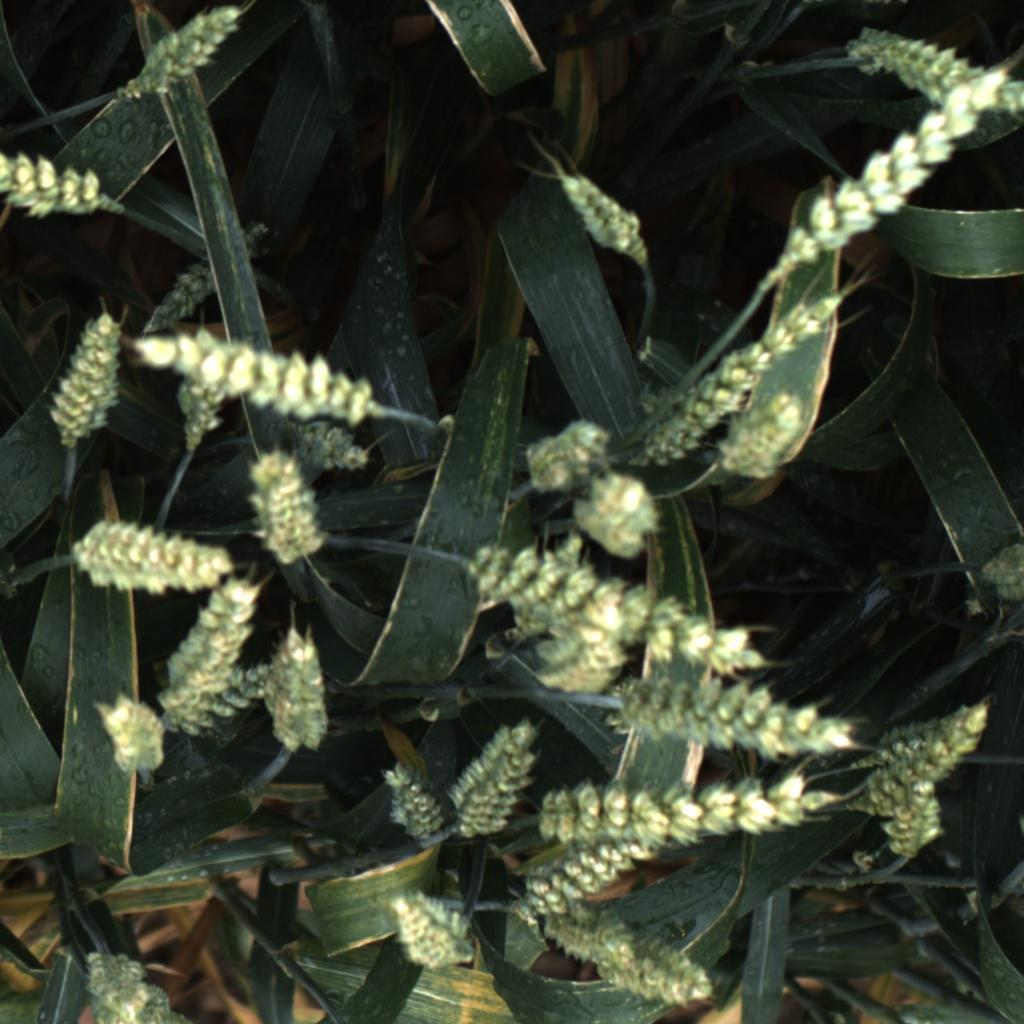0-0: (461, 532, 784, 691), (623, 286, 847, 479), (761, 100, 984, 290), (531, 765, 854, 851), (599, 667, 861, 767), (140, 332, 388, 431), (841, 695, 999, 823), (839, 21, 1024, 123), (156, 570, 268, 719), (138, 214, 272, 331), (111, 0, 252, 110), (511, 834, 684, 915), (73, 518, 233, 600), (446, 712, 544, 837), (44, 302, 123, 455), (588, 923, 721, 1011), (508, 525, 599, 649), (533, 600, 639, 706), (256, 623, 335, 758), (0, 134, 112, 229), (243, 449, 332, 564), (156, 658, 276, 743), (516, 404, 620, 501), (557, 169, 652, 274), (713, 386, 810, 484), (538, 890, 642, 972), (570, 468, 660, 562), (256, 406, 373, 477), (388, 885, 477, 974), (175, 321, 234, 455), (377, 759, 451, 857), (93, 689, 165, 780), (905, 608, 981, 690), (78, 948, 157, 1024), (884, 777, 953, 860), (83, 980, 201, 1024), (856, 716, 943, 772), (633, 381, 701, 439), (980, 531, 1024, 602), (1015, 810, 1024, 835)
